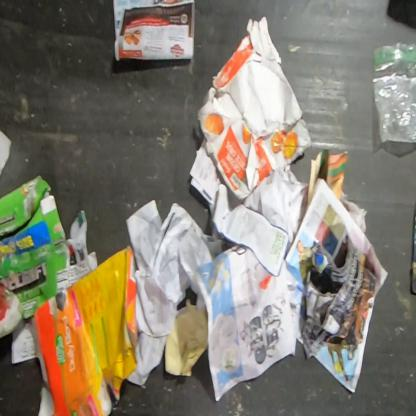cardboard: (198, 15, 312, 201), (32, 244, 140, 415), (0, 173, 72, 320), (410, 203, 415, 297)
soft_plastic: (372, 39, 415, 145)
